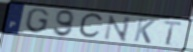9: (52, 9, 76, 38)
C: (77, 11, 106, 40)
G: (24, 7, 50, 34)
K: (132, 17, 157, 45)
N: (102, 14, 133, 43)
T: (161, 20, 185, 46)
